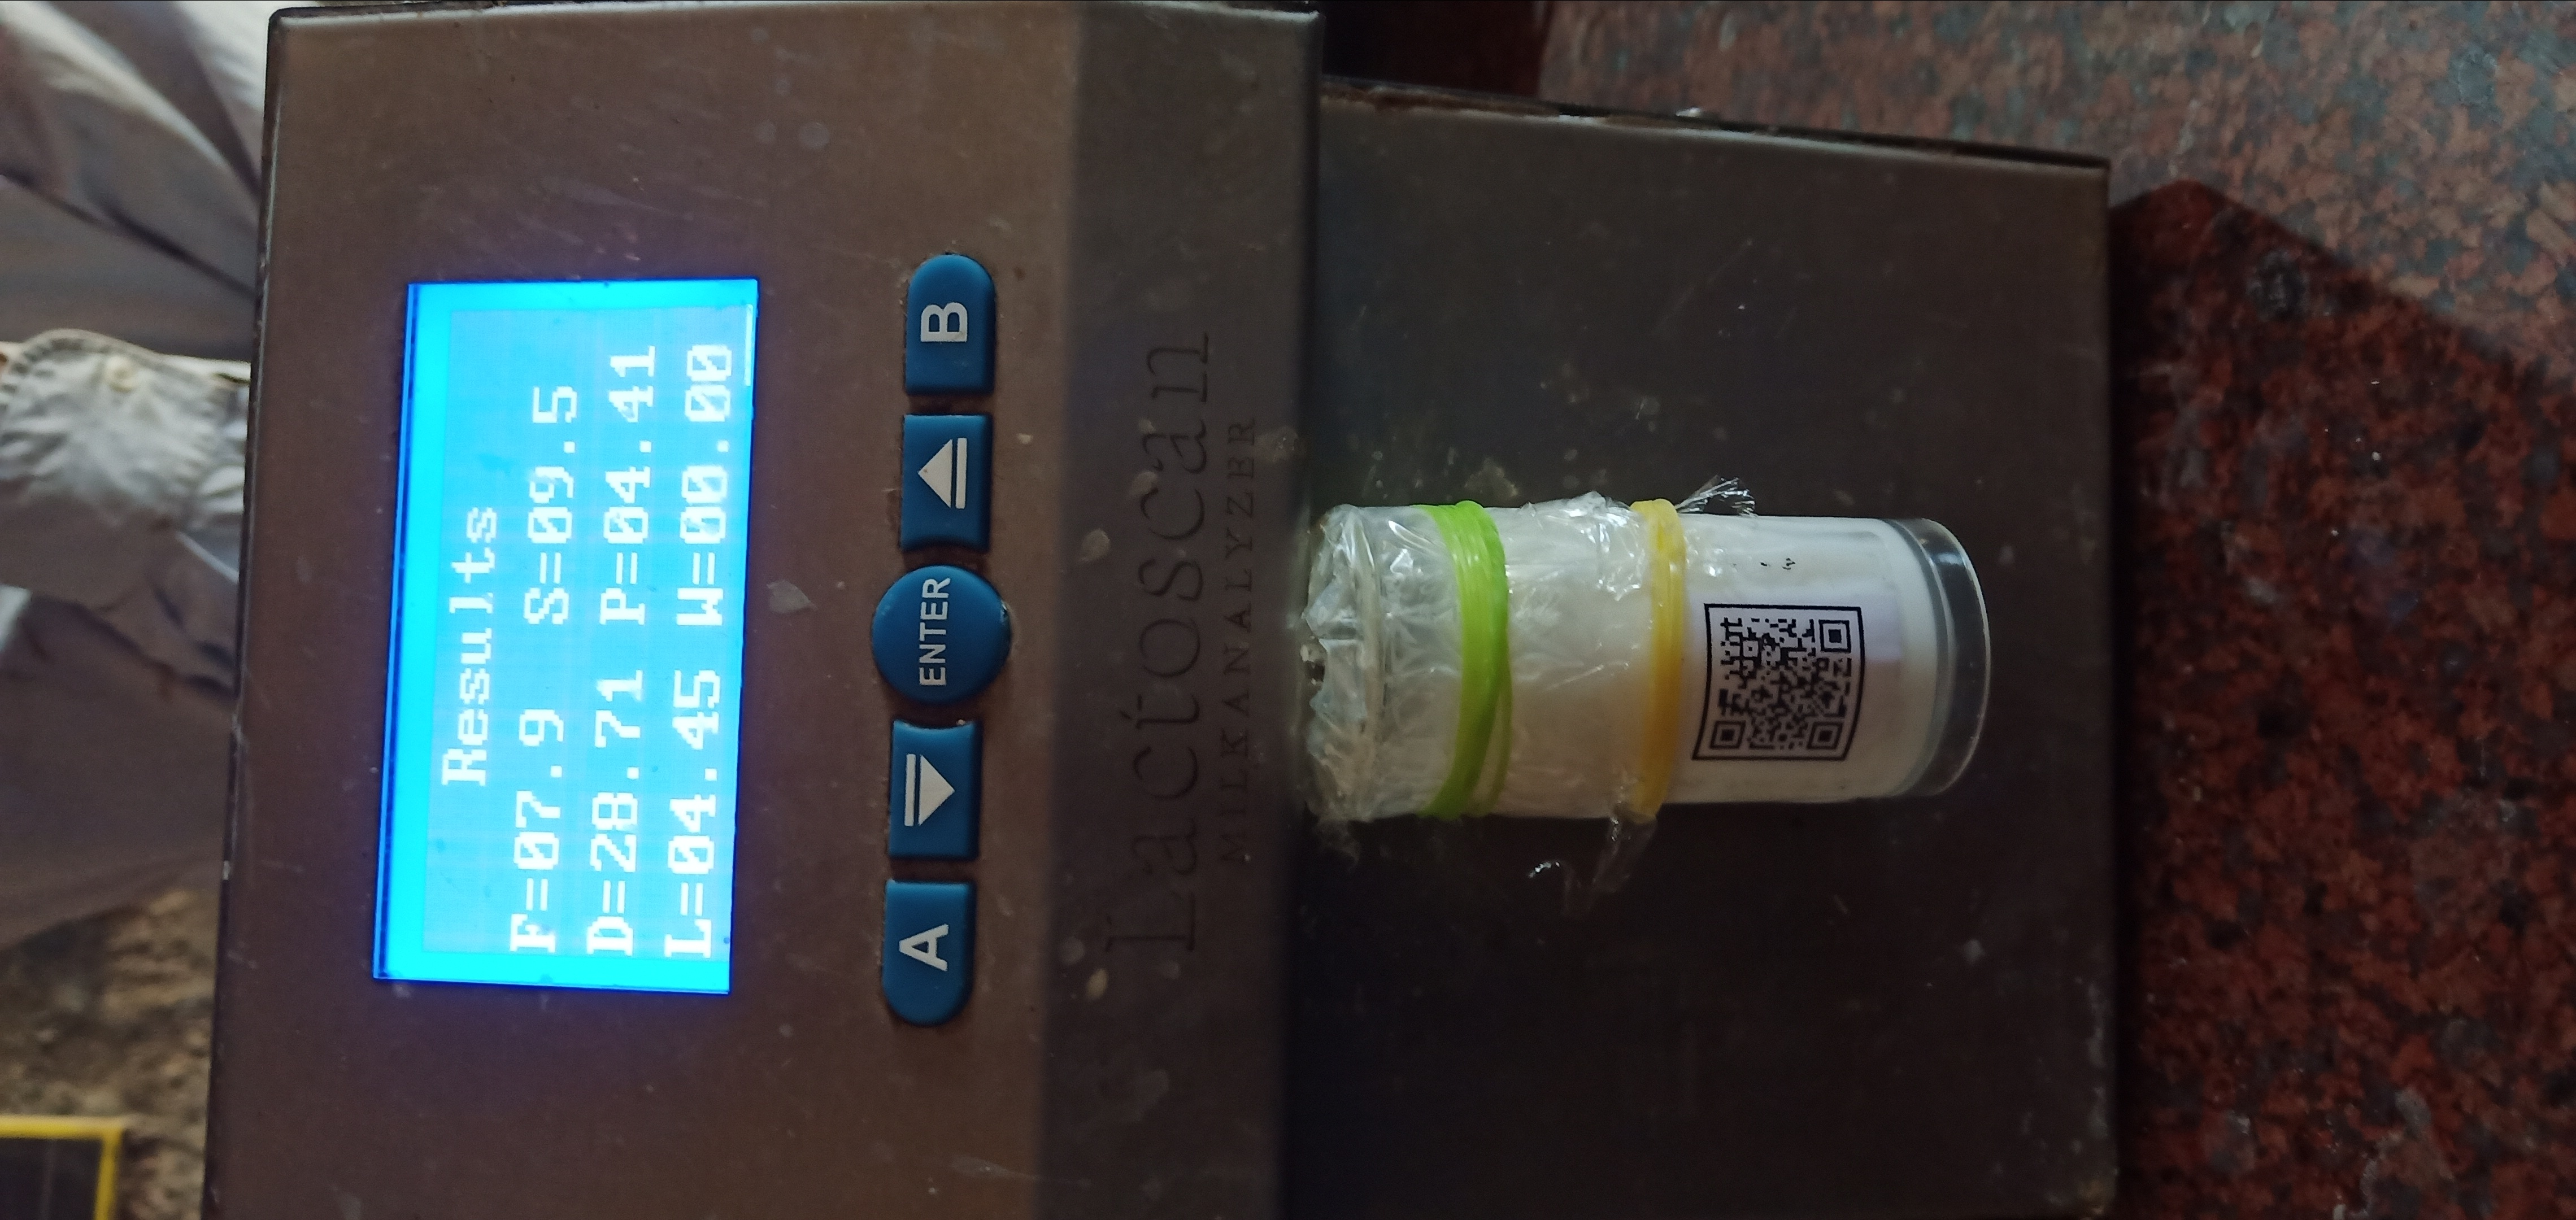lcd: (350, 250, 775, 1036)
qr: (1674, 586, 1870, 791)
